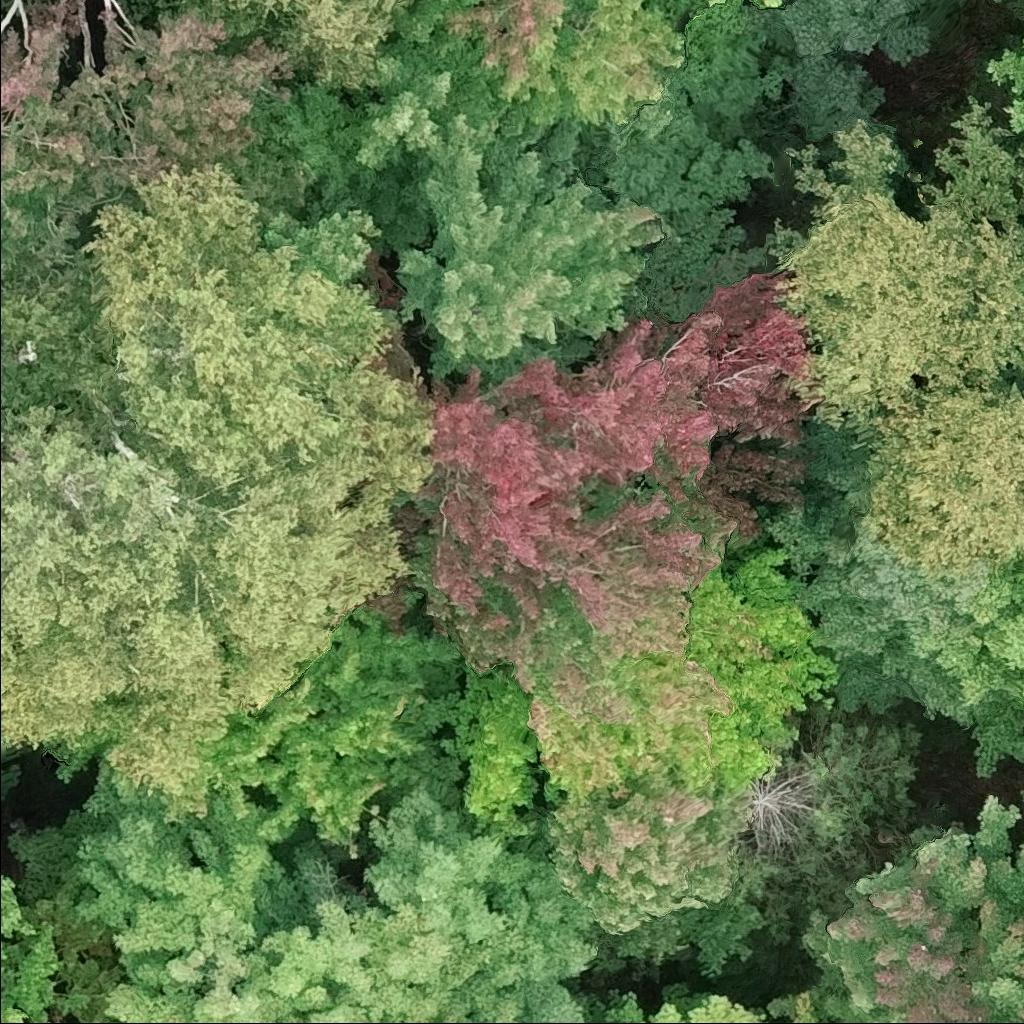crown: (0, 161, 438, 827), (361, 269, 820, 674), (74, 764, 604, 1023), (759, 426, 1023, 775), (768, 93, 1023, 445), (512, 548, 838, 809), (0, 0, 297, 286), (382, 135, 677, 386), (203, 604, 472, 859), (770, 793, 1023, 1023), (530, 774, 776, 976), (388, 0, 690, 163), (852, 376, 1023, 571), (194, 0, 417, 89), (0, 868, 62, 1023), (588, 982, 770, 1023), (746, 769, 824, 856), (984, 37, 1023, 137), (788, 993, 831, 1023), (122, 0, 191, 16), (698, 0, 782, 12), (0, 1007, 26, 1023), (1017, 776, 1023, 808)
